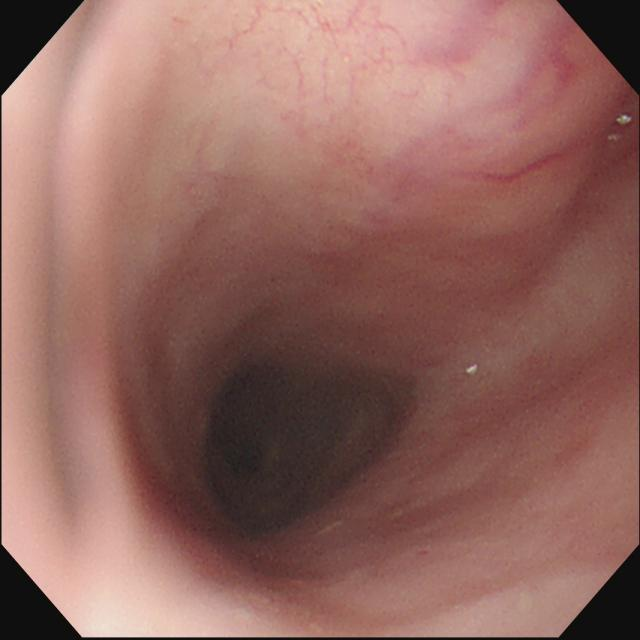E: (207, 369, 340, 505)
J: (615, 114, 634, 126), (463, 365, 481, 377)
